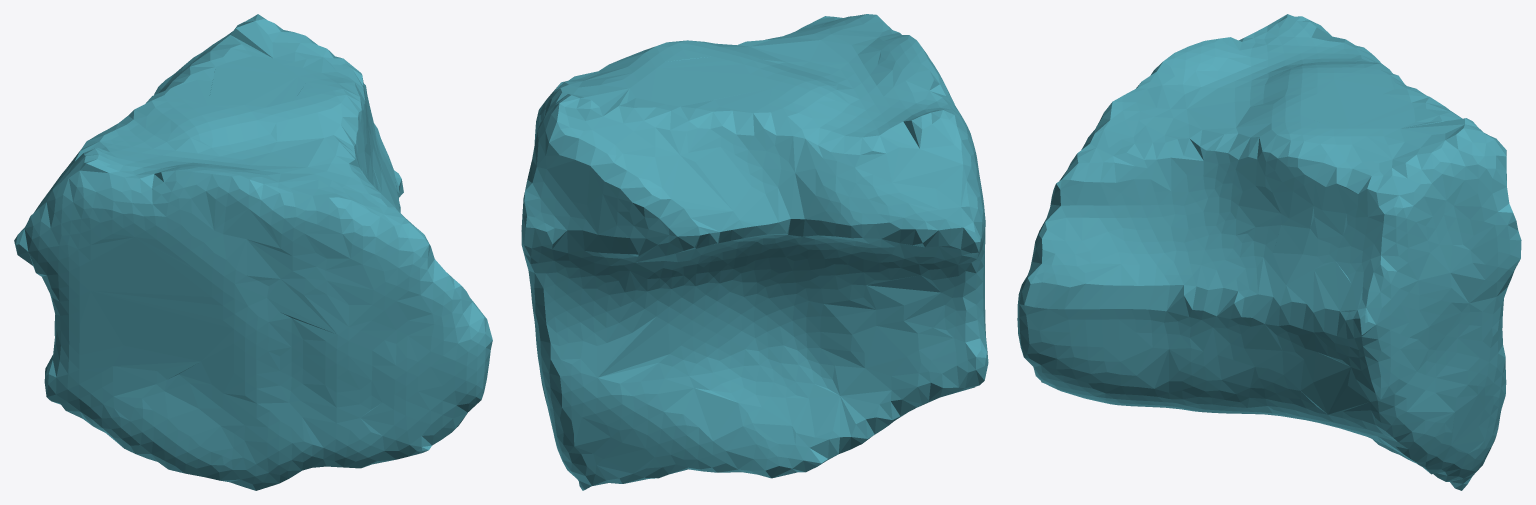
File: Model_10109_LH__Parietal_area_PFG_(PFG).obj
3 renders of one model, left to right at view 1: azimuth 30°, elevation 25°; view 2: azimuth 150°, elevation 25°; view 3: azimuth 270°, elevation 25°, orthographic. The views are drawn at different scales.
Bounding box in the file's own units: 2.87 × 2.47 × 3.06.
